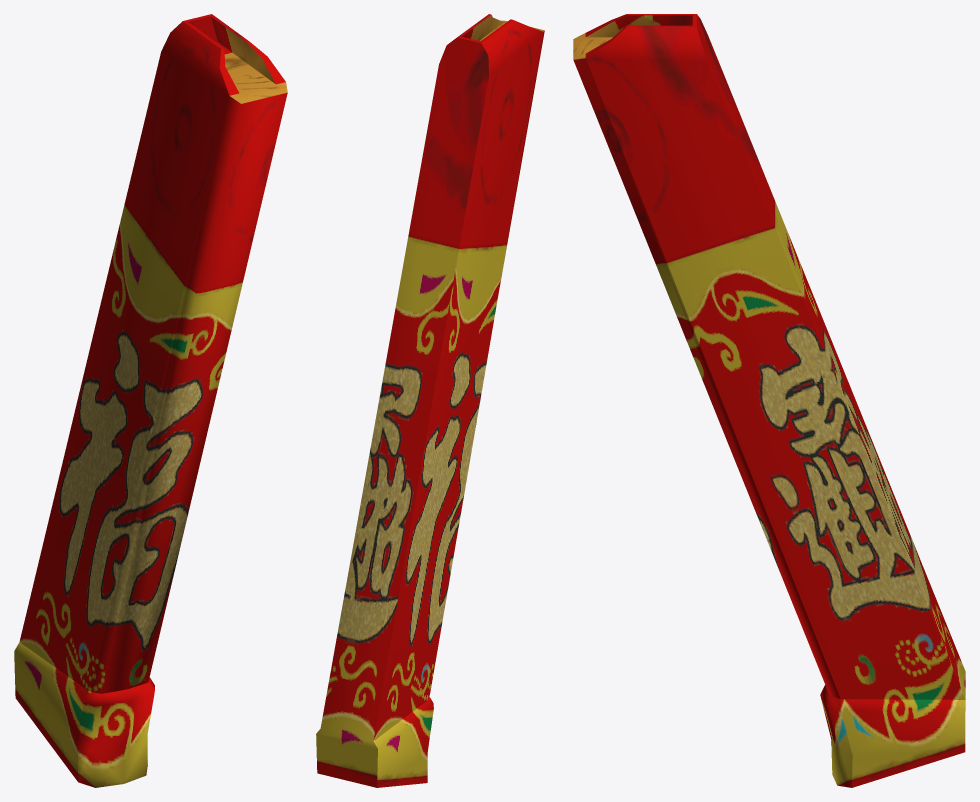
File: Pistol_sq_dj_01_Magazine_Main_(000394).glb
3 renders of one model, left to right at view 1: azimuth 30°, elevation 25°; view 2: azimuth 150°, elevation 25°; view 3: azimuth 270°, elevation 25°, orthographic. The views are drawn at different scales.
Parts seen in each view (by area): view 1: sq_dj_01; view 2: sq_dj_01; view 3: sq_dj_01.
Boxes of the visible parts, bbox=[...] form: sq_dj_01: bbox=[14, 14, 287, 787]; sq_dj_01: bbox=[316, 14, 544, 787]; sq_dj_01: bbox=[573, 14, 965, 787].
Size of the model in its own units: 0.0355 by 0.3763 by 0.1774.
Materials: 1 (1 with a texture image).
